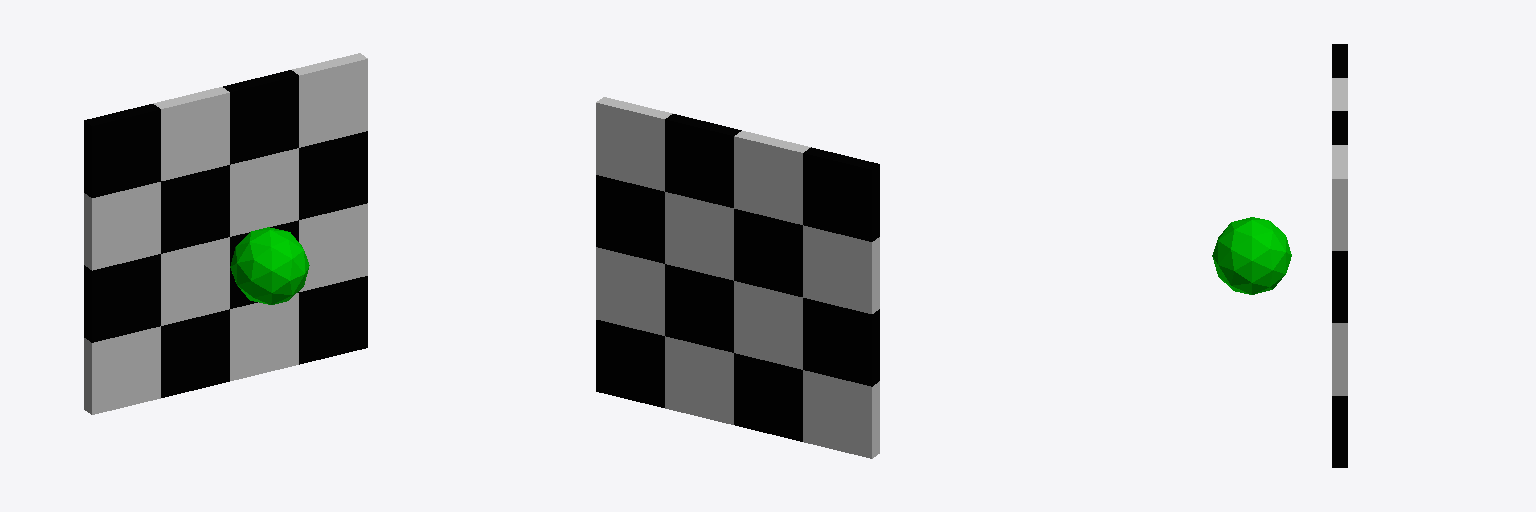
Rendered from calibration.obj.
3 views of the same model, side by side, from view 1: azimuth 30°, elevation 25°; view 2: azimuth 150°, elevation 25°; view 3: azimuth 270°, elevation 25° (orthographic).
Visible parts, largest first — view 1: Cube.013, Cube.011, Cube.010, Cube.012, Cube.014, Cube.015, Cube.016, Cube.002, Cube.005, Cube.007, Cube.009, Cube.003 (+5 smaller); view 2: Cube.013, Cube.010, Cube.011, Cube.012, Cube.015, Cube.014, Cube.016, Cube.008, Cube, Cube.003, Cube.004, Cube.005 (+4 smaller); view 3: Icosphere, Cube.016, Cube.006, Cube.005, Cube.007, Cube.013, Cube.015, Cube.014.
Part boxes in pixels (x1,y1,x2,y2): Cube.013: (84,104,160,197); Cube.011: (84,254,160,342); Cube.010: (84,326,160,414); Cube.012: (84,182,160,270); Cube.014: (153,87,229,180); Cube.015: (223,70,298,164); Cube.016: (292,53,367,147); Cube.002: (161,165,229,253); Cube.005: (299,131,367,219); Cube.007: (299,276,367,364); Cube.009: (161,309,229,397); Cube.003: (161,237,229,325); Cube.013: (803,147,879,241); Cube.010: (803,370,879,458); Cube.011: (803,298,879,386); Cube.012: (803,225,879,313); Cube.015: (665,114,741,207); Cube.014: (734,131,810,224); Cube.016: (596,97,672,191); Cube.008: (665,336,733,424); Cube: (665,192,733,280); Cube.003: (734,281,802,369); Cube.004: (665,264,733,352); Cube.005: (596,175,664,263); Icosphere: (1212,217,1291,294); Cube.016: (1332,145,1347,250); Cube.006: (1332,323,1347,395); Cube.005: (1332,251,1347,322); Cube.007: (1332,396,1347,467); Cube.013: (1332,44,1347,77); Cube.015: (1332,111,1347,144); Cube.014: (1332,78,1347,110).
Bounding box in the file's own units: 4 × 4 × 1.7.